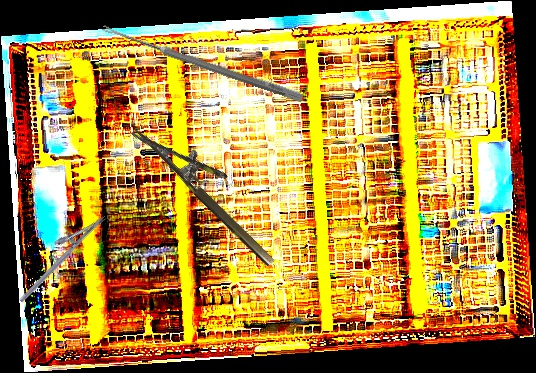Needle Holder: (130, 105, 294, 270), (8, 204, 107, 303)
Surgical Spoon: (101, 23, 304, 103)
